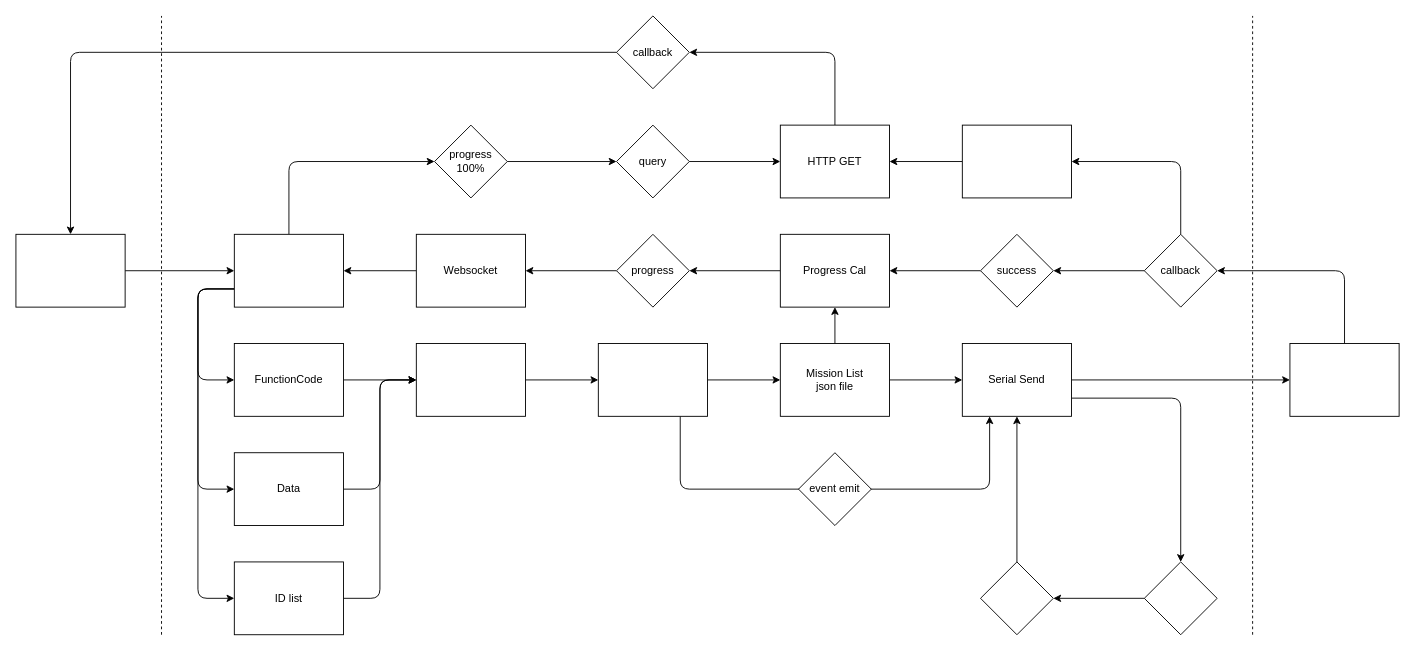
Some shapes in this 1415 by 652 pixel diagram are drawn without their labels. Each missing label, with the centre of its shape:
Command Pack: the point at 470,379
Commander: the point at 288,270
DataBase SQLite: the point at 1016,161
HTTP POST: the point at 652,379
oprate: the point at 70,270
retry 5: the point at 1016,598
rs485: the point at 1344,379
timeout: the point at 1180,598
